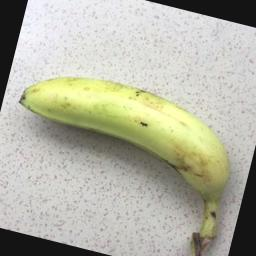Banana Ripe: (0, 47, 256, 232)
